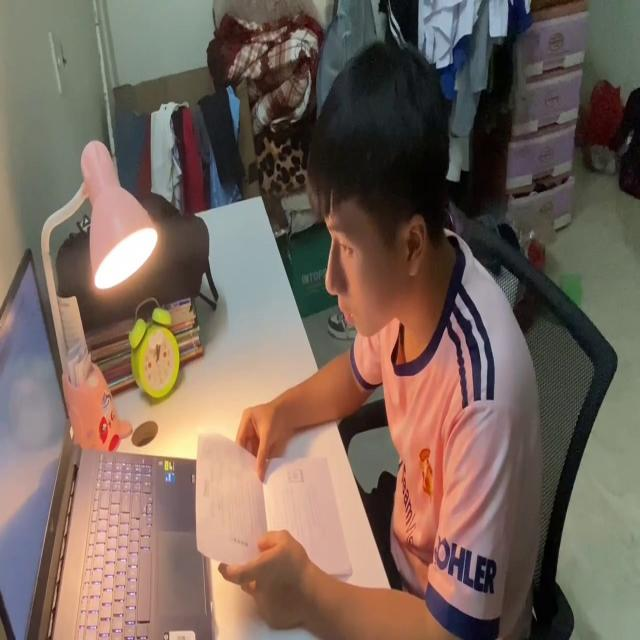book: (191, 422, 351, 587)
laptop: (0, 248, 219, 640)
student: (215, 43, 544, 640)
